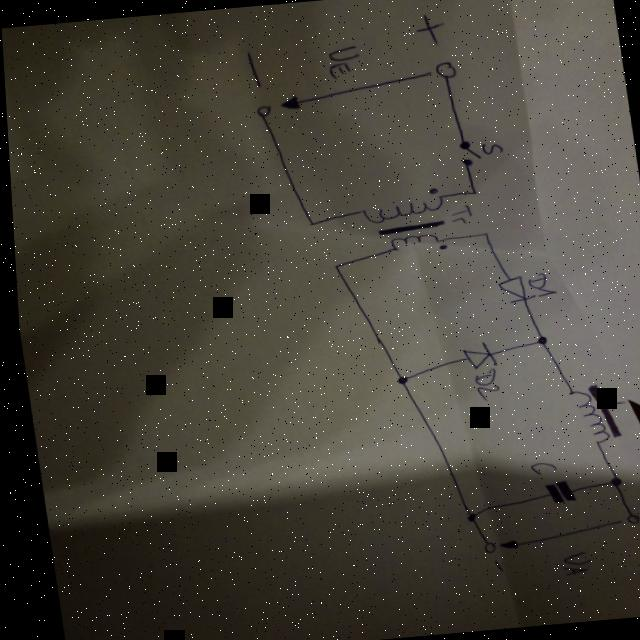capacitor: (536, 476, 572, 505)
diode: (491, 272, 533, 305), (456, 338, 496, 369)
inductor: (560, 380, 618, 444)
junction: (300, 214, 322, 230), (529, 330, 547, 346), (602, 472, 620, 486), (390, 372, 408, 385), (327, 258, 342, 270), (459, 510, 473, 520), (469, 186, 479, 195), (479, 229, 488, 237)
switch: (454, 136, 481, 166)
terminal: (433, 56, 458, 78), (252, 100, 271, 118), (618, 509, 637, 525), (476, 538, 491, 554)
text: (324, 41, 364, 78), (521, 268, 556, 298), (468, 364, 498, 398), (553, 548, 588, 576), (446, 200, 472, 224), (523, 457, 555, 475), (478, 138, 505, 156), (604, 397, 623, 411)
transformer: (356, 183, 453, 261)
